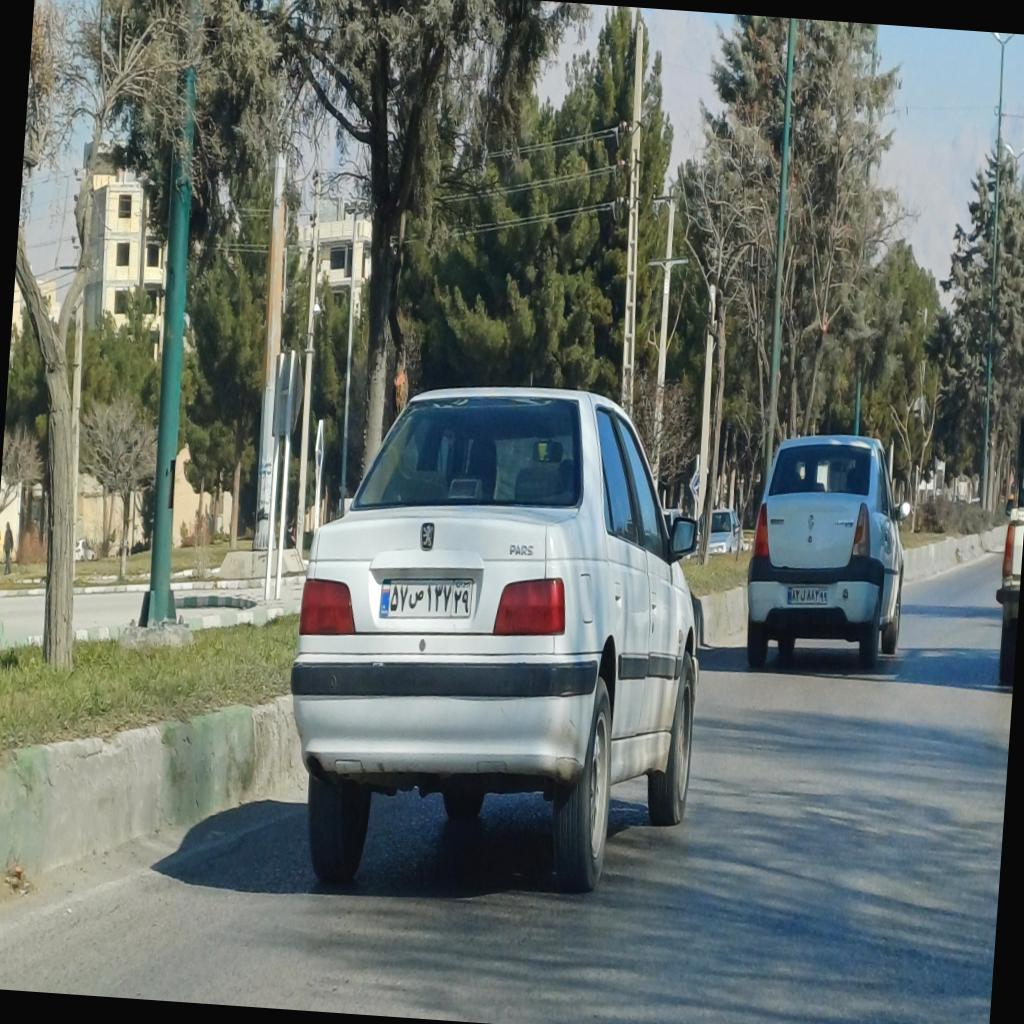Plates: (379, 571, 473, 627), (787, 584, 830, 606)
